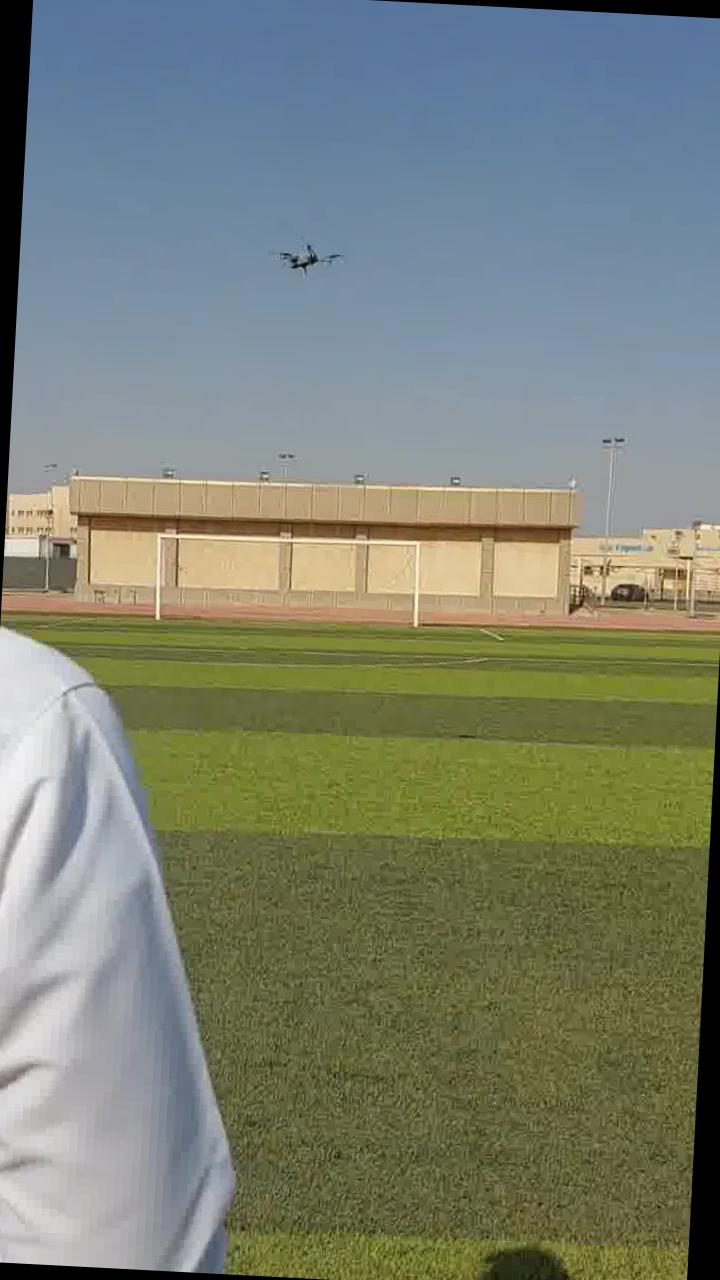drone: (264, 225, 344, 278)
